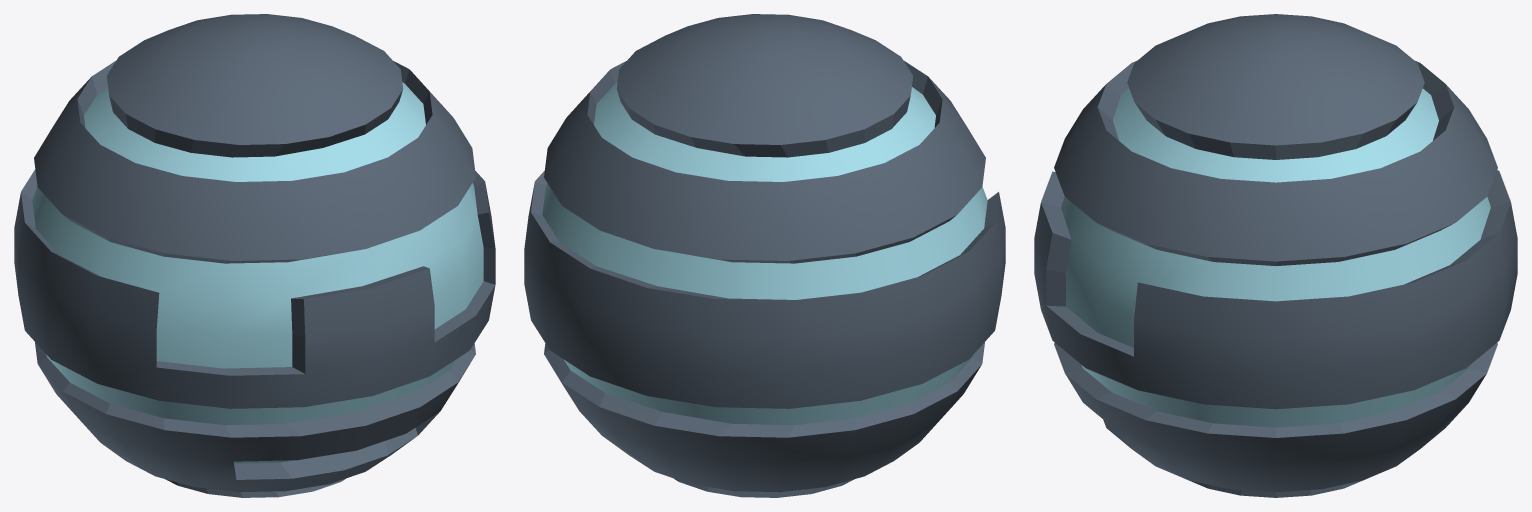
File: villager2.fbx
The picture shows the model from 3 angles, left to right: view 1: azimuth 30°, elevation 25°; view 2: azimuth 150°, elevation 25°; view 3: azimuth 270°, elevation 25°; orthographic projection.
Visible parts, largest first — view 1: pSphere24; view 2: pSphere24; view 3: pSphere24.
Boxes of the visible parts, x1,y1,x2,y2 form: pSphere24: (14,14,495,497); pSphere24: (524,14,1005,497); pSphere24: (1034,14,1517,497).
Size of the model in its own units: 58.31 by 58.51 by 58.31.
